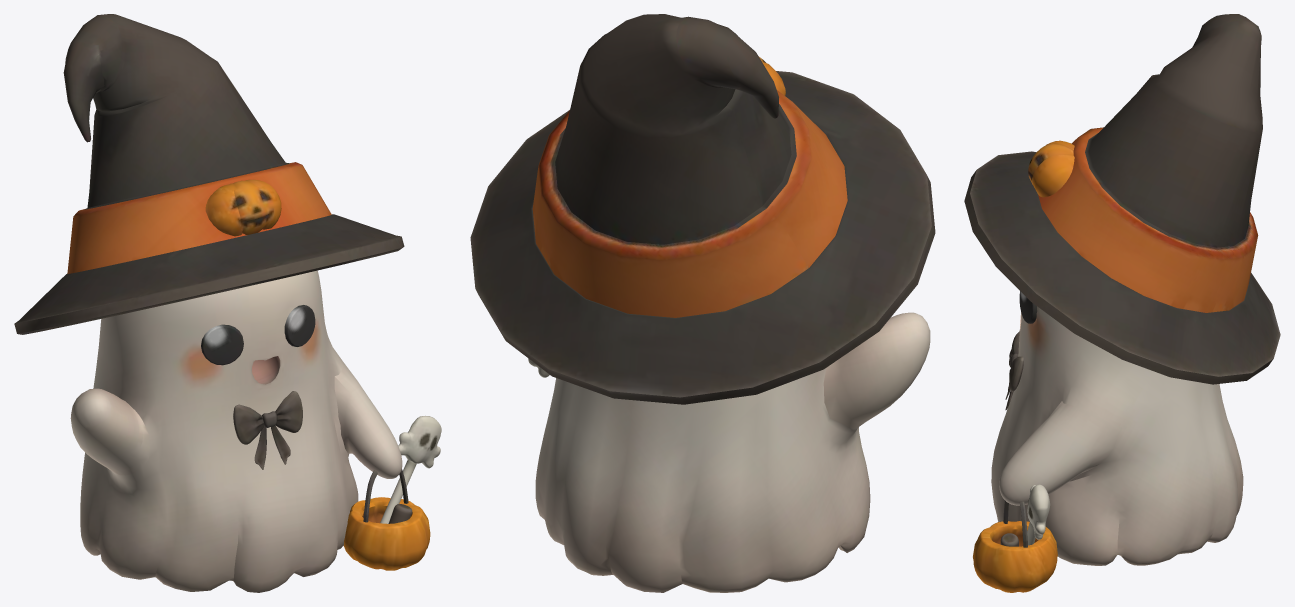
The model's file is halloween_ghost.glb.
3 renders of one model, left to right at view 1: azimuth 30°, elevation 25°; view 2: azimuth 150°, elevation 25°; view 3: azimuth 270°, elevation 25°, orthographic. The views are drawn at different scales.
Parts seen in each view (by area): view 1: Cuerpo_low, Gorro_low, Canasta_low, object 4, Ojos_low, AdornoCalavera_low; view 2: Gorro_low, Cuerpo_low; view 3: Gorro_low, Cuerpo_low, Canasta_low, AdornoCalavera_low, object 4.
Boxes of the visible parts, x1,y1,x2,y2 form: Cuerpo_low: [70, 270, 402, 592]; Gorro_low: [14, 14, 404, 334]; Canasta_low: [343, 469, 430, 570]; object 4: [233, 391, 302, 469]; Ojos_low: [201, 305, 315, 365]; AdornoCalavera_low: [380, 415, 441, 523]; Gorro_low: [470, 14, 935, 404]; Cuerpo_low: [535, 312, 930, 592]; Gorro_low: [964, 14, 1280, 384]; Cuerpo_low: [991, 306, 1243, 565]; Canasta_low: [973, 500, 1057, 592]; AdornoCalavera_low: [1027, 484, 1050, 545]; object 4: [1005, 331, 1023, 410].
Size of the model in its own units: 0.0382 by 0.0499 by 0.0294.
2 materials, 2 textured.
